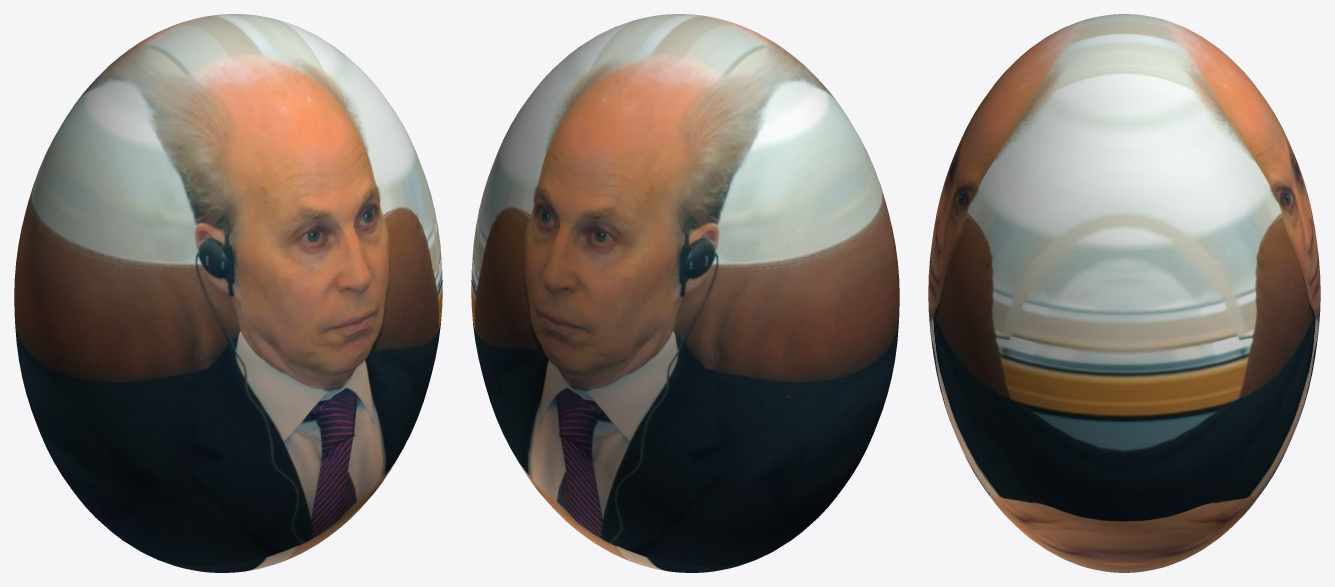
The picture shows the model from 3 angles, left to right: view 1: azimuth 30°, elevation 25°; view 2: azimuth 150°, elevation 25°; view 3: azimuth 270°, elevation 25°; orthographic projection.
Visible parts, largest first — view 1: head; view 2: head; view 3: head.
Part boxes in pixels (bbox=[...]): head: bbox=[14, 14, 442, 572]; head: bbox=[471, 14, 899, 572]; head: bbox=[928, 14, 1320, 572].
Bounding box in the file's own units: 1.5 × 2 × 1.35.
Materials: 1 (1 with a texture image).
